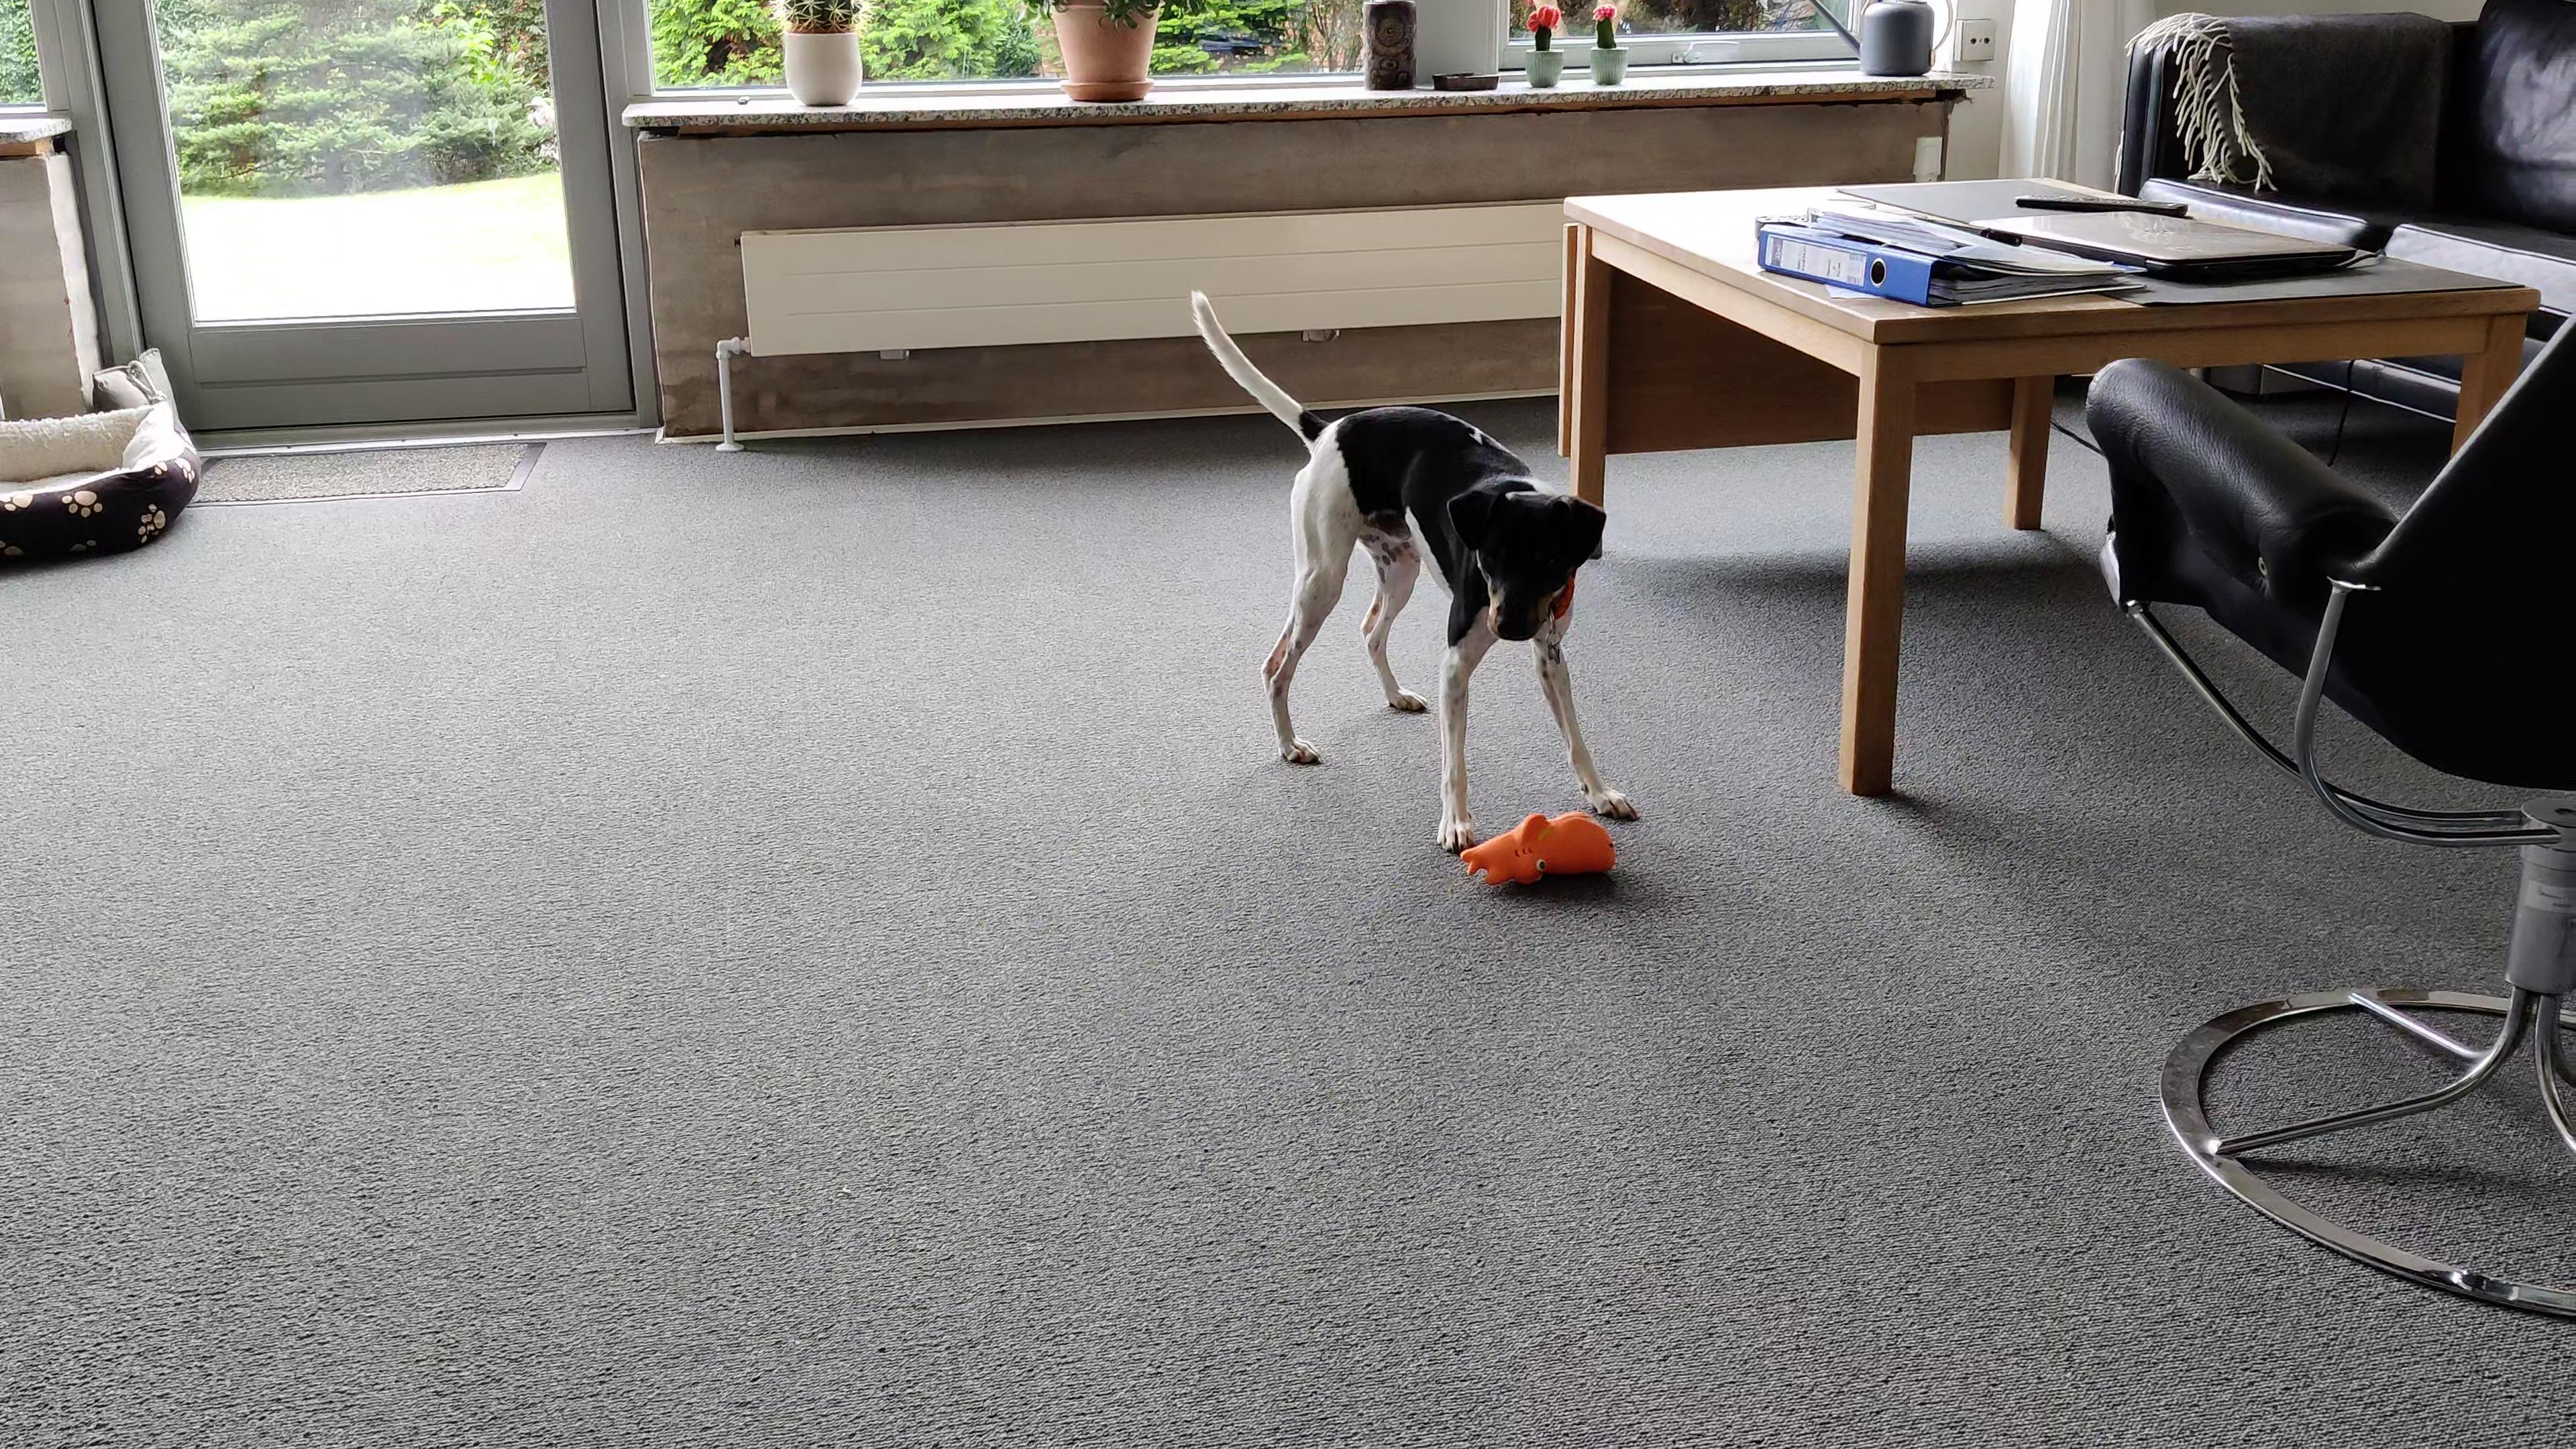Dog: (1169, 272, 1645, 862)
